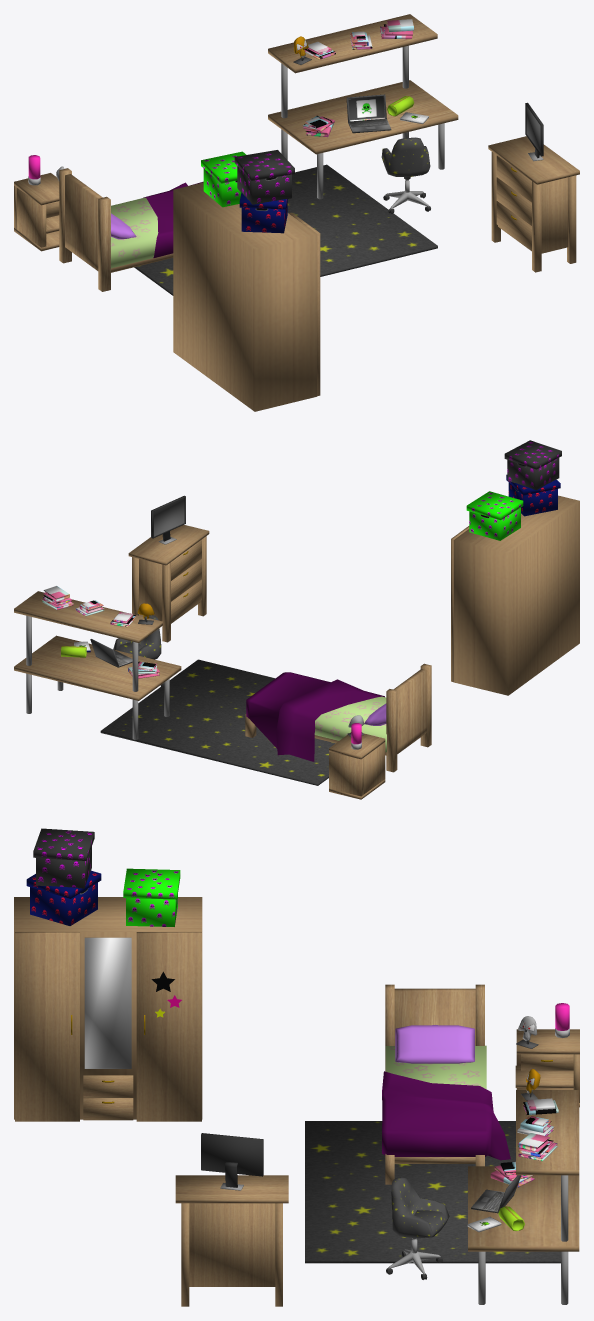
The model's file is Andrea_s_bedroom.fbx.
3 views of the same model, one above another, from view 1: azimuth 30°, elevation 25°; view 2: azimuth 150°, elevation 25°; view 3: azimuth 270°, elevation 25° (orthographic). The views are drawn at different scales.
Parts seen in each view (by area): view 1: Wardrobe, Desk, Carpet, Bed, Drawer, Bedside, Black, Chair, Green, Blue, PC, Screen (+2 smaller); view 2: Wardrobe, Carpet, Bed, Desk, Drawer, Bedside, Black, Green, Blue, Screen, Chair, PC (+1 smaller); view 3: Wardrobe, Bed, Carpet, Drawer, Desk, Bedside, Black, Chair, Green, Screen, Blue, PC (+1 smaller).
Boxes of the visible parts, x1,y1,x2,y2 form: Wardrobe: [173, 182, 320, 411]; Desk: [268, 14, 458, 199]; Carpet: [134, 164, 437, 295]; Bed: [59, 168, 203, 291]; Drawer: [488, 136, 579, 272]; Bedside: [14, 173, 59, 251]; Black: [234, 150, 294, 204]; Chair: [381, 137, 430, 213]; Green: [201, 151, 246, 207]; Blue: [239, 192, 287, 233]; PC: [346, 94, 391, 133]; Screen: [525, 102, 543, 161]; Wardrobe: [451, 495, 579, 695]; Carpet: [100, 659, 335, 785]; Bed: [245, 663, 431, 772]; Desk: [14, 591, 181, 739]; Drawer: [128, 525, 209, 642]; Bedside: [329, 732, 385, 799]; Black: [504, 440, 561, 490]; Green: [466, 491, 523, 540]; Blue: [506, 474, 560, 516]; Screen: [151, 495, 185, 544]; Chair: [113, 615, 164, 687]; PC: [90, 639, 132, 667]; Wardrobe: [14, 897, 202, 1121]; Bed: [382, 984, 510, 1184]; Carpet: [305, 1121, 560, 1263]; Drawer: [175, 1175, 288, 1306]; Desk: [468, 1090, 579, 1304]; Bedside: [515, 1029, 579, 1107]; Black: [33, 828, 94, 888]; Chair: [386, 1177, 449, 1279]; Green: [123, 868, 180, 926]; Screen: [201, 1133, 263, 1190]; Blue: [26, 870, 101, 925]; PC: [471, 1175, 521, 1213].
Bounding box in the file's own units: 6.44 × 3.55 × 6.83.
